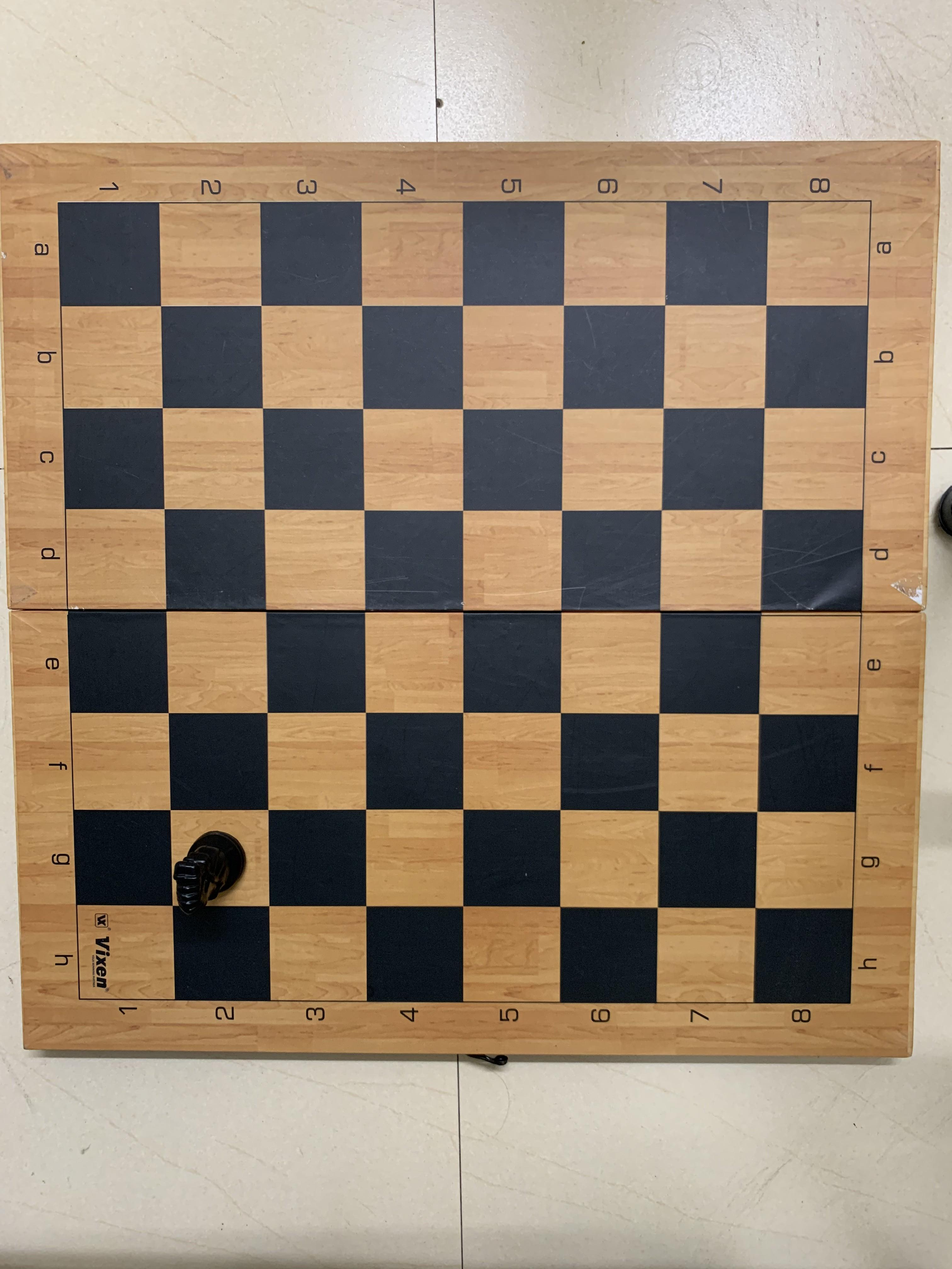black_knight: (167, 814, 261, 914)
